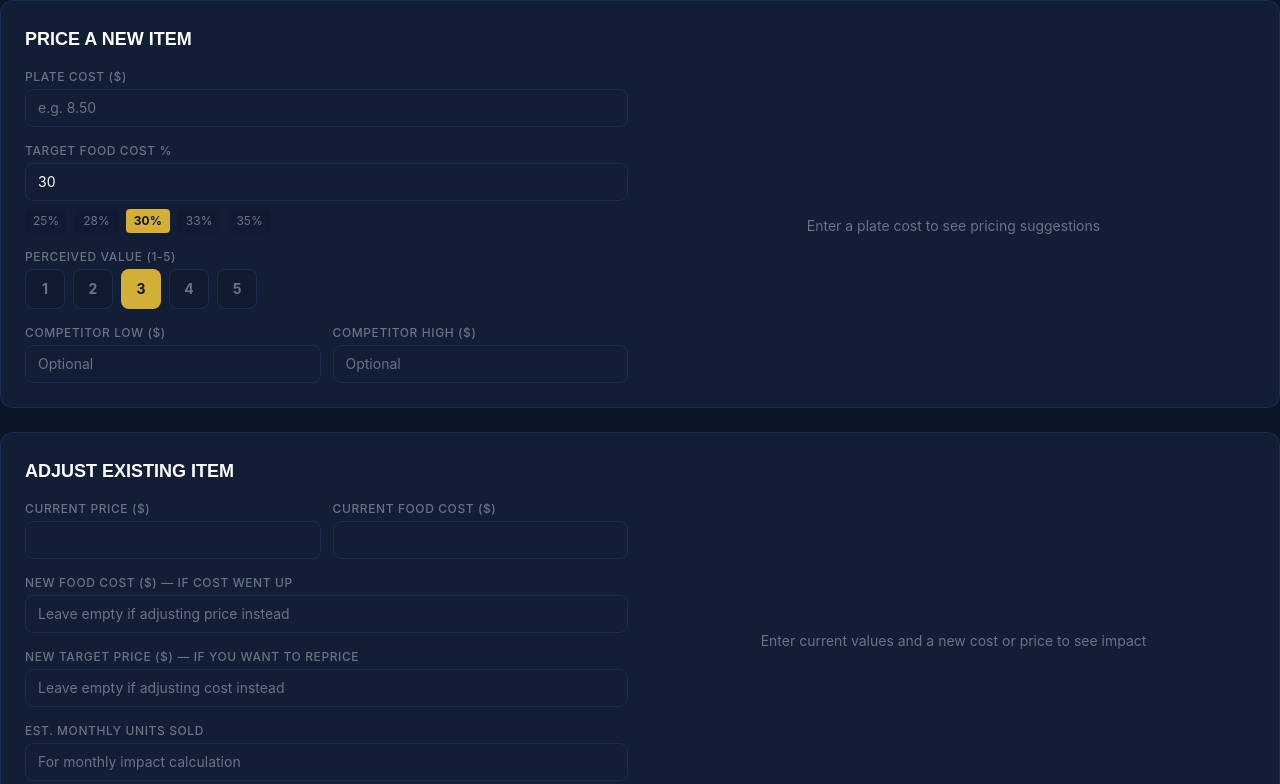
Test: PricingCalculator › ForwardCalculator › shows empty state for zero plate cost
# Enter and then clear
Type "10" into the number field with placeholder "e.g. 8.50" at {"x": 326, "y": 108}, box [25,89,628,127]
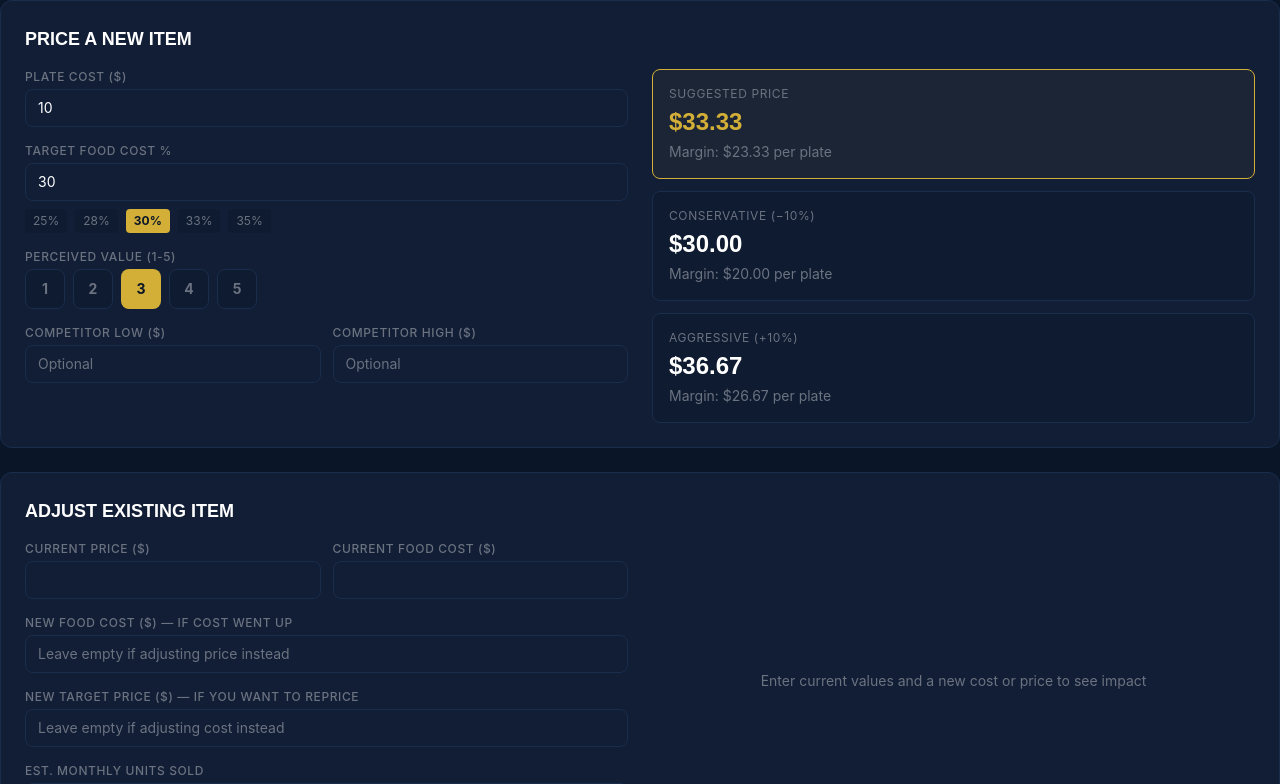
Replace the text in the number field with placeholder "e.g. 8.50" below "Plate Cost ($)" with "0" at {"x": 326, "y": 108}, box [25,89,628,127]
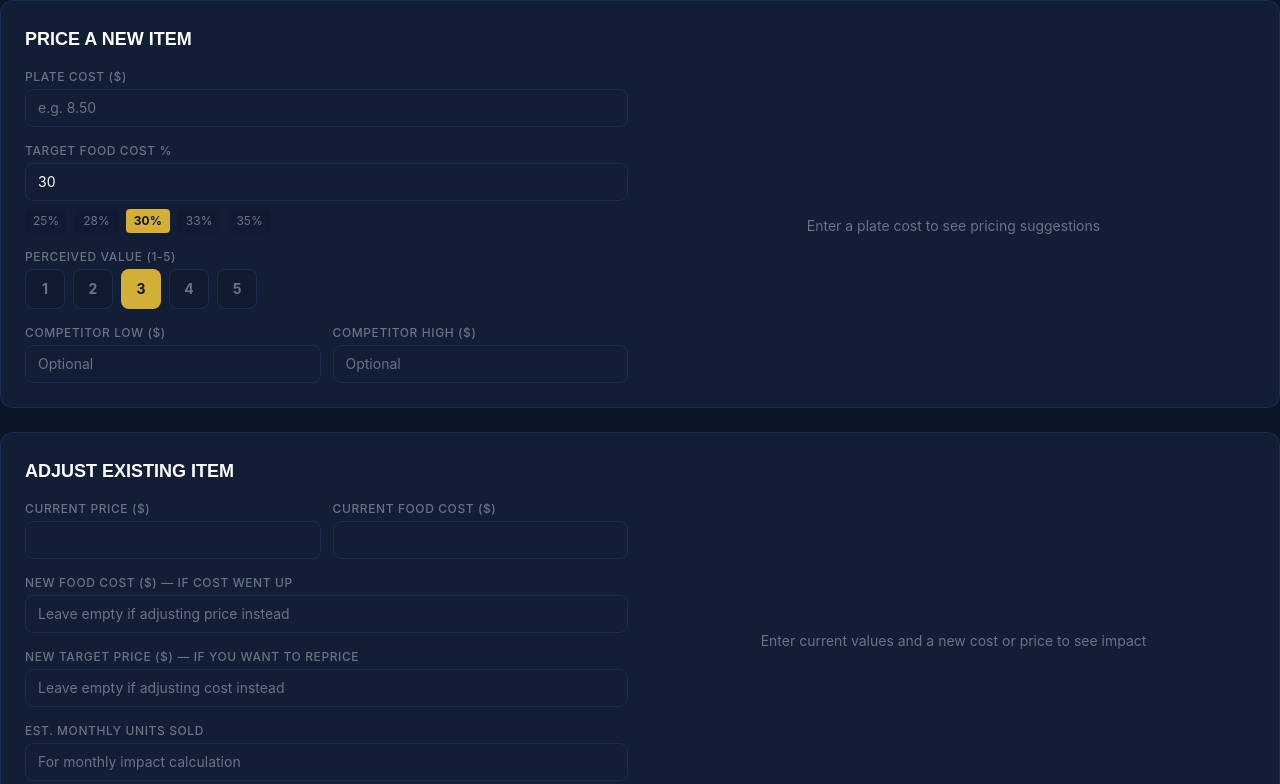
Expected: the text "Enter a plate cost to see pricing suggestions" is shown, [807,217,1100,234]
